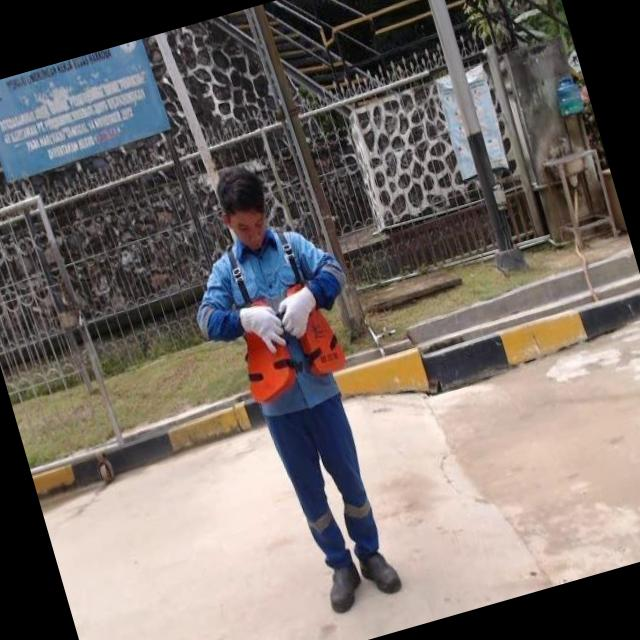safety_vest: (209, 223, 363, 422)
vehicle: (141, 125, 458, 640)
work_boots: (352, 534, 412, 608), (320, 552, 370, 618)
